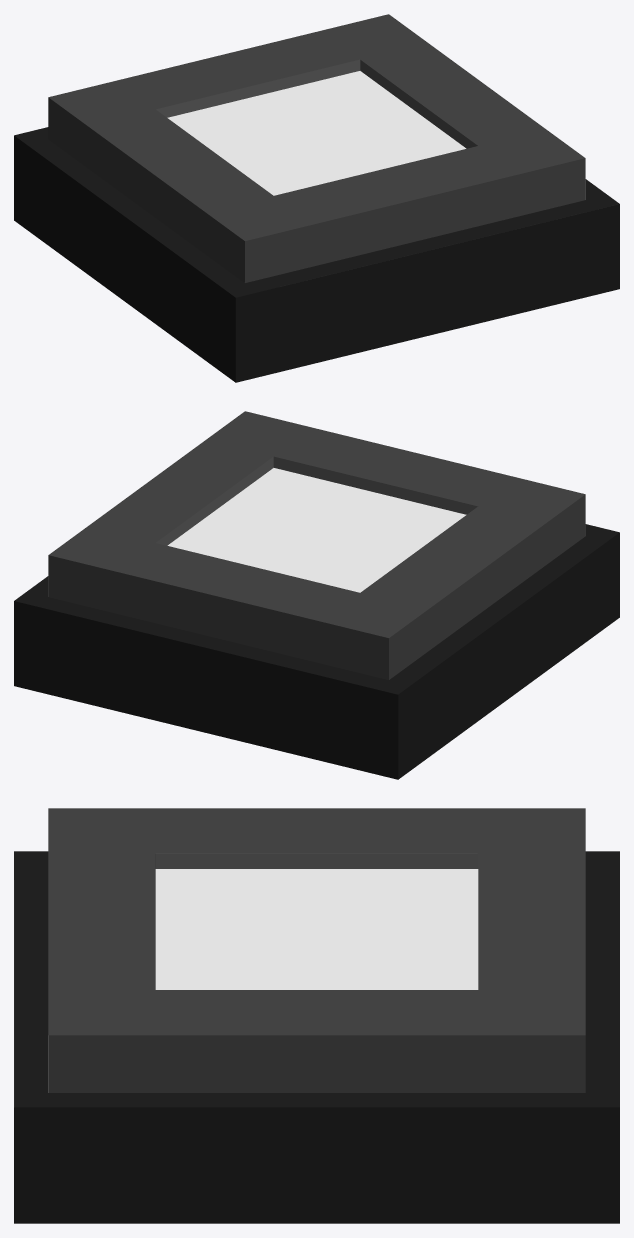
File: luxcapacitor.obj
3 renders of one model, top to bottom at view 1: azimuth 30°, elevation 25°; view 2: azimuth 150°, elevation 25°; view 3: azimuth 270°, elevation 25°, orthographic. The views are drawn at different scales.
Visible parts, largest first — view 1: frame_light.007, light_light.008; view 2: frame_light.007, light_light.008; view 3: frame_light.007, light_light.008.
Part boxes in pixels (bbox=[...]): frame_light.007: bbox=[14, 14, 619, 382]; light_light.008: bbox=[167, 71, 466, 195]; frame_light.007: bbox=[14, 411, 619, 779]; light_light.008: bbox=[167, 468, 466, 592]; frame_light.007: bbox=[14, 808, 619, 1223]; light_light.008: bbox=[155, 869, 478, 989].
Bounding box in the file's own units: 0.8063 × 0.2549 × 0.8063.
